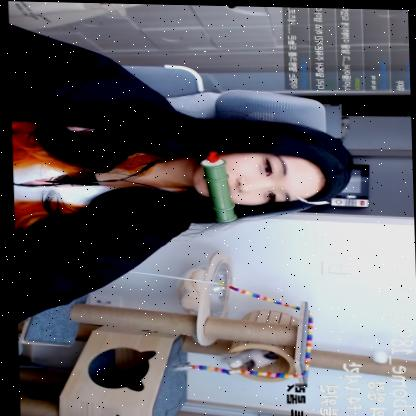streamer: (9, 22, 357, 330)
